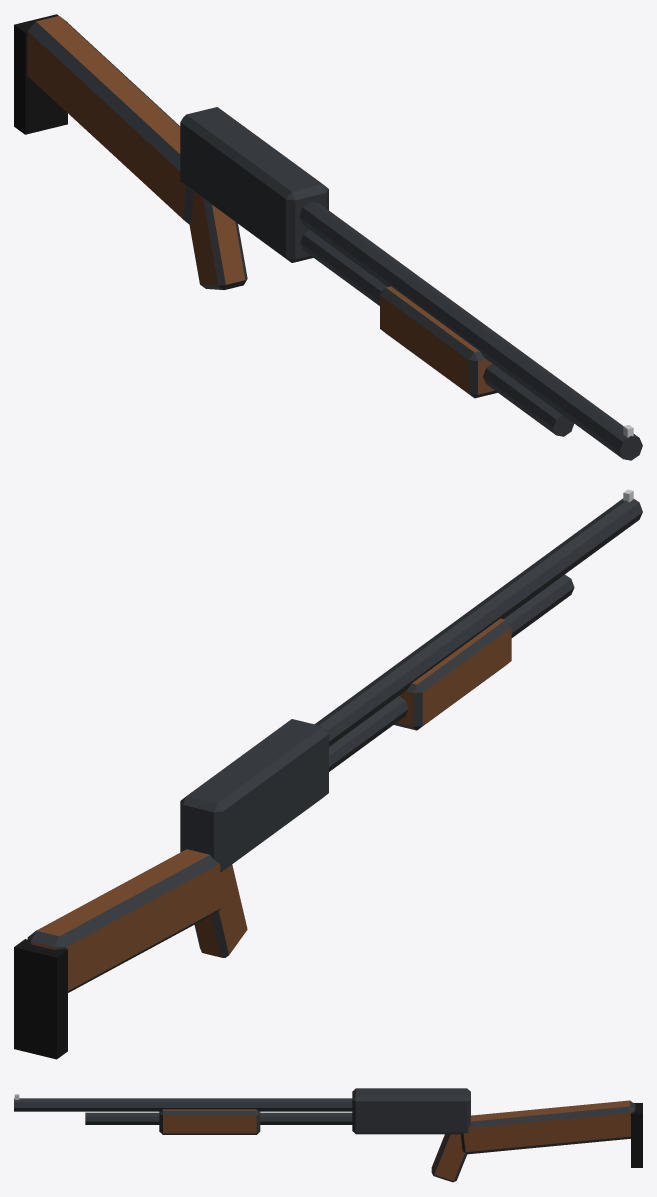
Rendered from WPN_Shotgun.fbx.
3 renders of one model, top to bottom at view 1: azimuth 30°, elevation 25°; view 2: azimuth 150°, elevation 25°; view 3: azimuth 270°, elevation 25°, orthographic. The views are drawn at different scales.
Parts seen in each view (by area): view 1: WPN_Shotgun__BODY; view 2: WPN_Shotgun__BODY; view 3: WPN_Shotgun__BODY.
Part boxes in pixels (x1,y1,x2,y2): WPN_Shotgun__BODY: (14,14,642,460); WPN_Shotgun__BODY: (14,489,642,1059); WPN_Shotgun__BODY: (14,1088,642,1182).
Bounding box in the file's own units: 0.044 × 0.1627 × 1.06.
